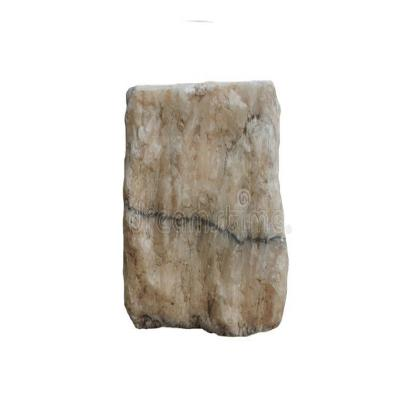Sedimentary_Limestone: (111, 62, 289, 334)
